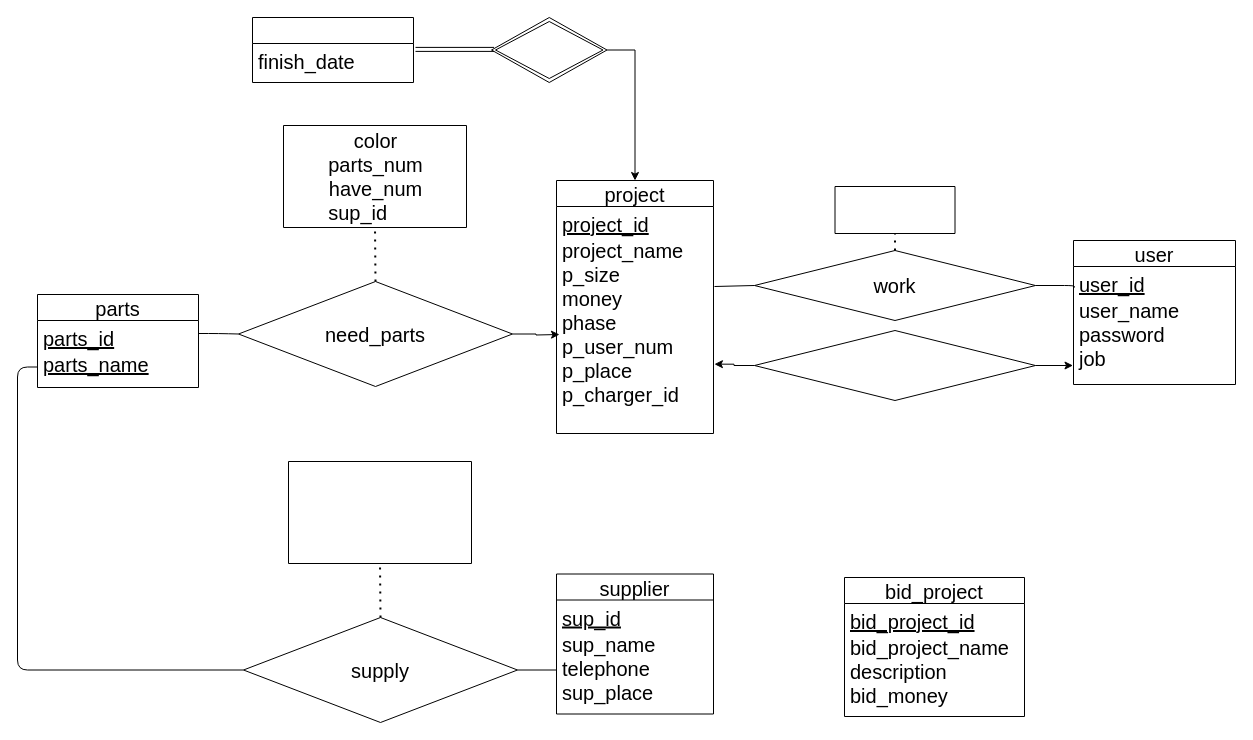
The diagram is 1253 pixels wide and 740 high, and some of its shapes have lost their labels. The shapes that lost their labels are listed below. From the top down, each one's box as (x1, y1, x2, y2) in pixels, then its label:
(252, 16, 414, 82): finish_project
(490, 16, 607, 82): finish
(834, 186, 955, 234): job_project
(754, 330, 1036, 400): charge
(288, 460, 472, 564): color parts_num parts_price
